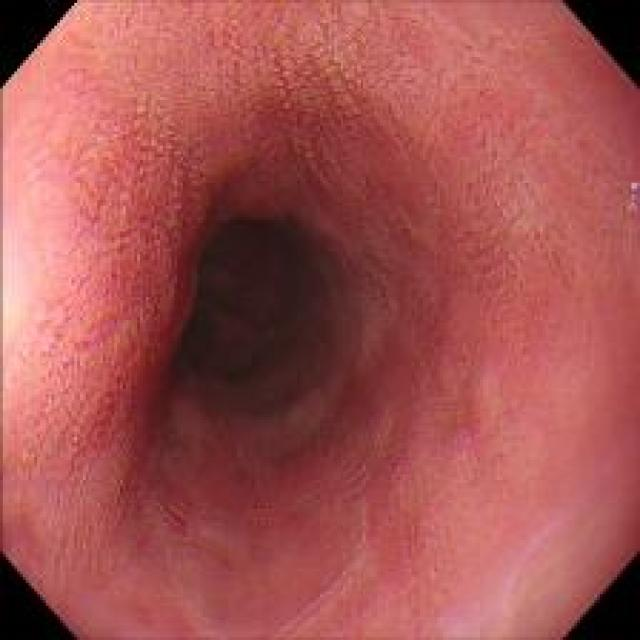blur: (108, 420, 454, 629)
color misalignment: (354, 418, 391, 500), (624, 172, 638, 218)
contrast: (166, 199, 320, 395)
saturation: (0, 210, 40, 385)
